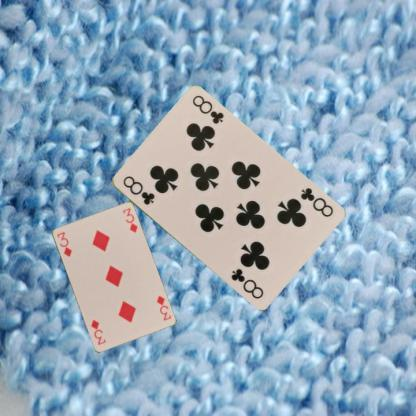3d: (54, 229, 73, 258), (154, 293, 172, 322)
8c: (120, 173, 156, 207), (298, 185, 334, 218)
